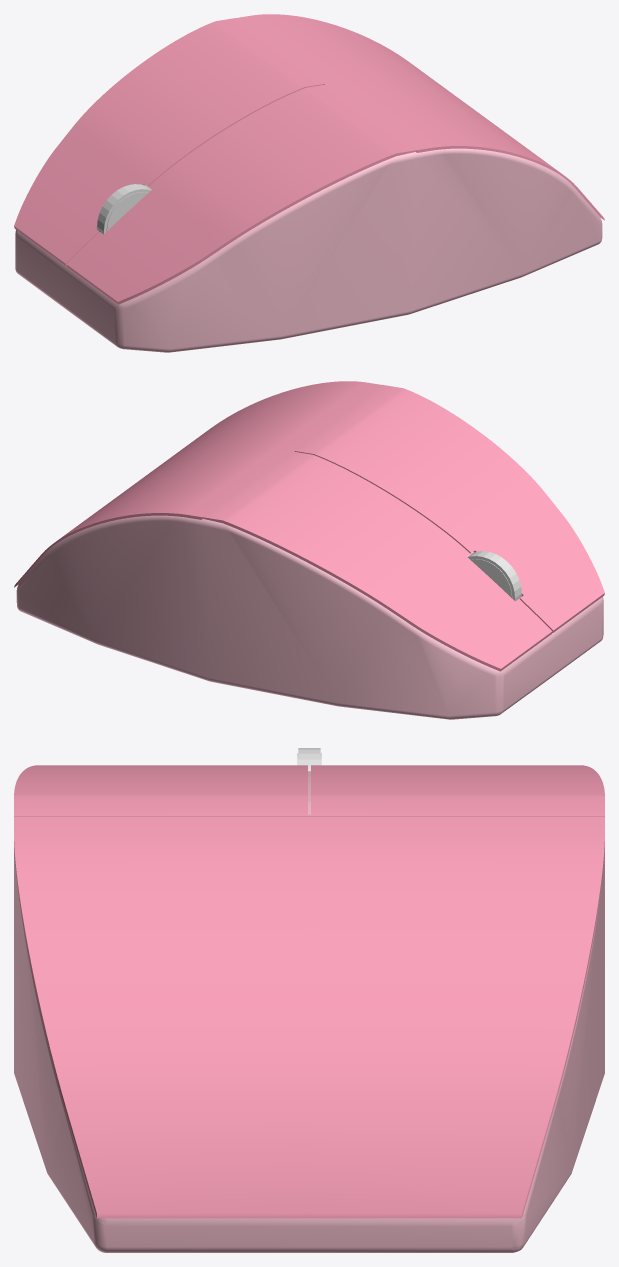
Rendered from Chater03_Mouse.fbx.
The picture shows the model from 3 angles, top to bottom: view 1: azimuth 30°, elevation 25°; view 2: azimuth 150°, elevation 25°; view 3: azimuth 270°, elevation 25°; orthographic projection. The views are drawn at different scales.
Parts seen in each view (by area): view 1: Mouse.Button, Mouse.Body, Mouse.Wheel; view 2: Mouse.Button, Mouse.Body, Mouse.Wheel; view 3: Mouse.Button, Mouse.Body.
Boxes of the visible parts, <box> form: Mouse.Button: <box>14,14,604,304</box>; Mouse.Body: <box>15,148,602,352</box>; Mouse.Wheel: <box>97,184,151,234</box>; Mouse.Button: <box>14,381,604,671</box>; Mouse.Body: <box>16,515,603,719</box>; Mouse.Wheel: <box>467,551,521,601</box>; Mouse.Button: <box>14,765,604,1218</box>; Mouse.Body: <box>14,771,604,1252</box>.
Size of the model in its own units: 339 by 114 by 224.
